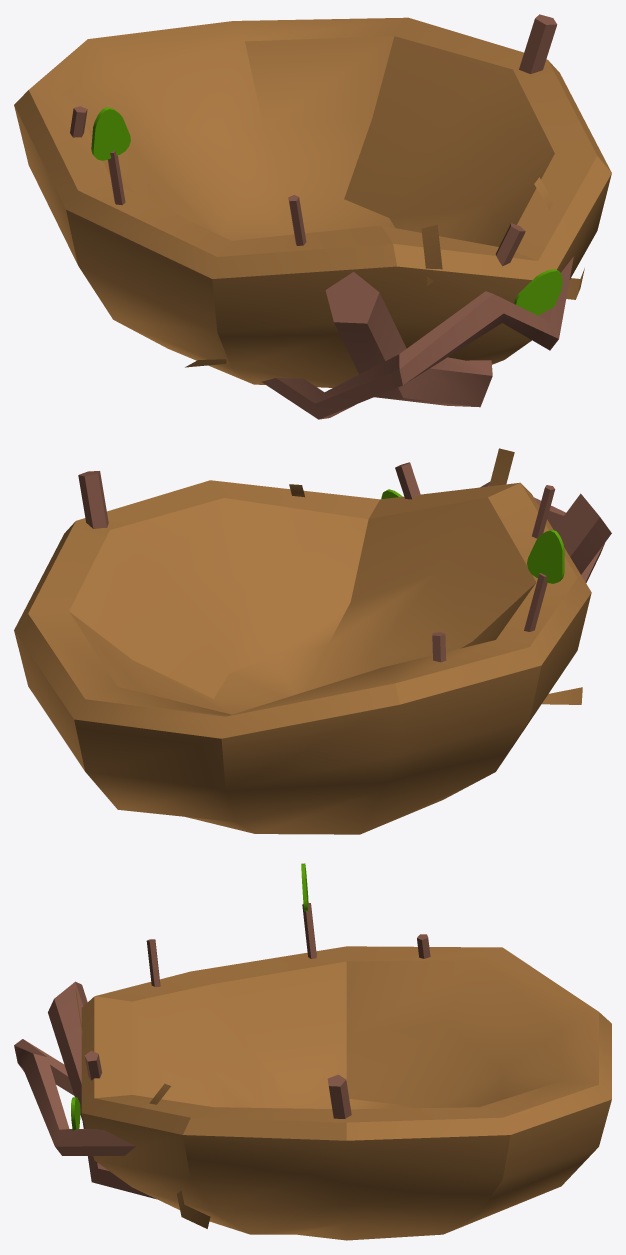
The model's file is Ms_Nid02.fbx.
3 views of the same model, one above another, from view 1: azimuth 30°, elevation 25°; view 2: azimuth 150°, elevation 25°; view 3: azimuth 270°, elevation 25° (orthographic). The views are drawn at different scales.
Parts seen in each view (by area): view 1: Paille01, Branche701, Branche01, Feuille201, Feuille301, Branche401, Paillette901, Branche201, Branche501, Branche301; view 2: Paille01, Branche01, Feuille201, Branche401, Branche501, Paillette901, Branche201, Branche301, Branche701, Paillette801; view 3: Paille01, Branche701, Branche01, Branche401.
Part boxes in pixels (x1,y1,x2,y2): Paille01: (14, 17, 611, 387); Branche701: (261, 256, 573, 419); Branche01: (325, 271, 492, 407); Feuille201: (91, 107, 130, 160); Feuille301: (514, 269, 562, 315); Branche401: (519, 14, 557, 73); Paillette901: (421, 224, 442, 285); Branche201: (495, 223, 525, 266); Branche501: (108, 150, 125, 205); Branche301: (288, 195, 306, 245); Paille01: (14, 480, 591, 834); Branche01: (554, 493, 611, 574); Feuille201: (527, 529, 564, 583); Branche401: (78, 471, 108, 528); Branche501: (524, 573, 547, 631); Paillette901: (489, 448, 514, 486); Branche201: (395, 462, 420, 499); Branche301: (532, 485, 555, 538); Branche701: (480, 482, 604, 582); Paillette801: (542, 687, 582, 704); Paille01: (81, 946, 611, 1240); Branche701: (14, 1039, 135, 1155); Branche01: (48, 981, 156, 1199); Branche401: (327, 1074, 351, 1118).
Bounding box in the file's own units: 0.3148 × 0.1914 × 0.3993.
